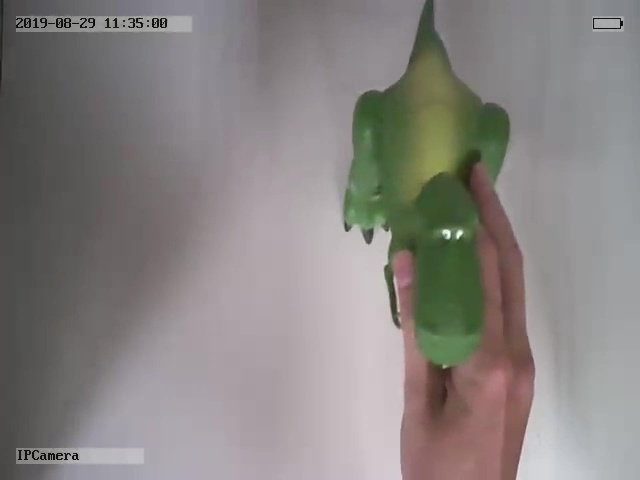rex: (340, 3, 513, 367)
